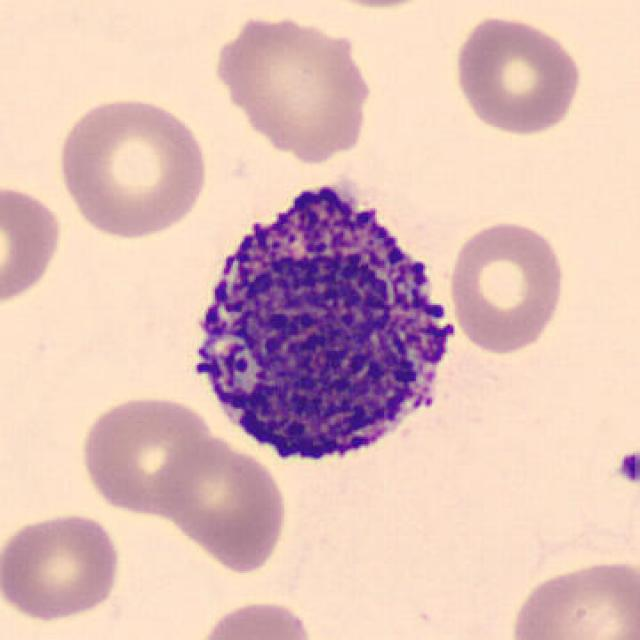Basophil: (172, 163, 474, 482)
Platelets: (611, 446, 640, 490)
RBC: (204, 9, 378, 162), (52, 91, 214, 242), (150, 430, 292, 577), (444, 215, 569, 358), (448, 11, 587, 139), (76, 392, 214, 516), (0, 507, 124, 624), (503, 553, 638, 640), (0, 178, 66, 310), (192, 596, 318, 640), (300, 0, 447, 12)
